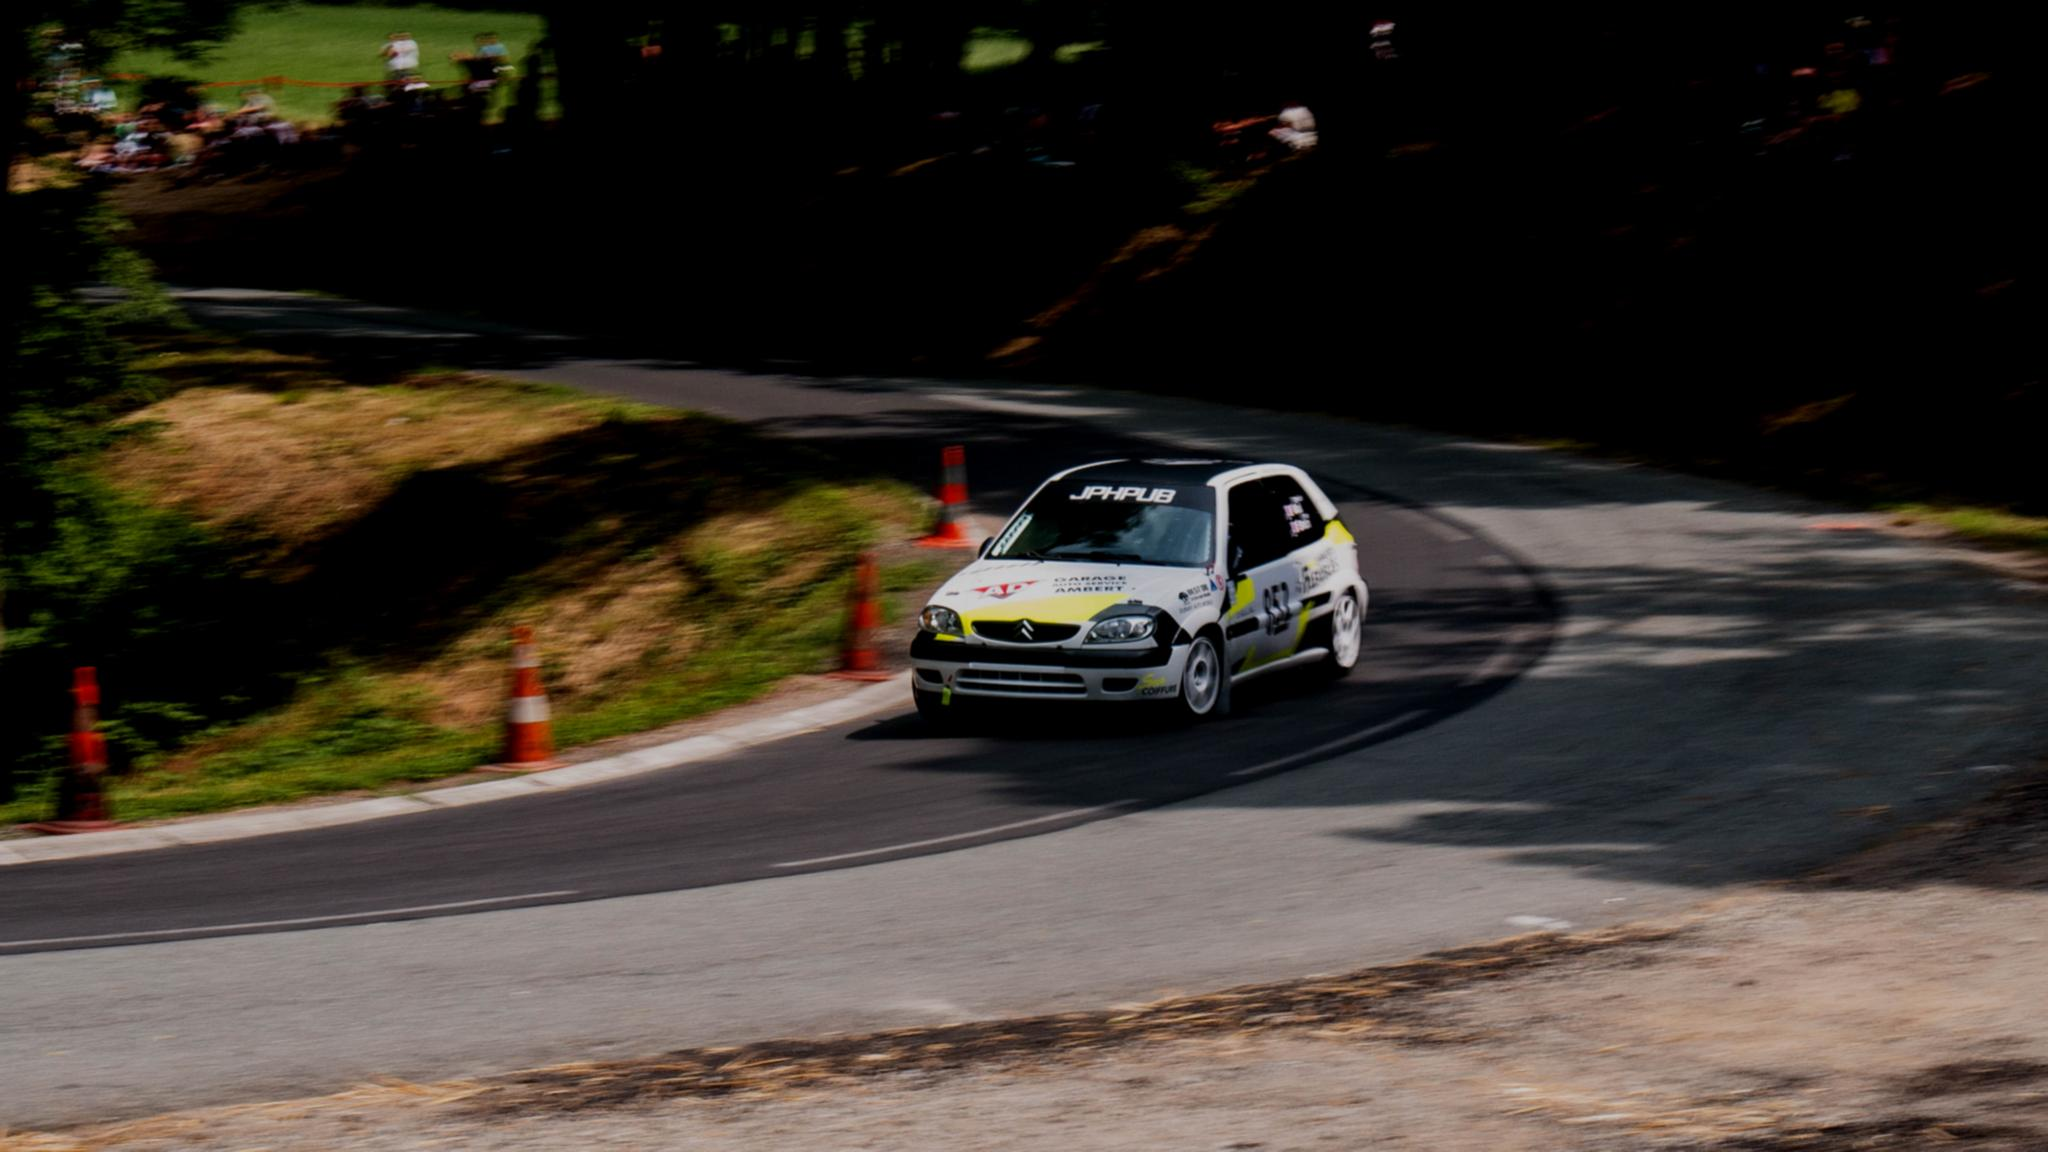Citroen: (1004, 615, 1045, 647)
